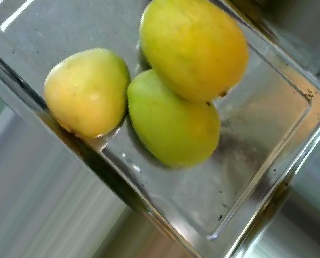Mango: (138, 0, 248, 101), (127, 69, 221, 167), (42, 48, 130, 138)
